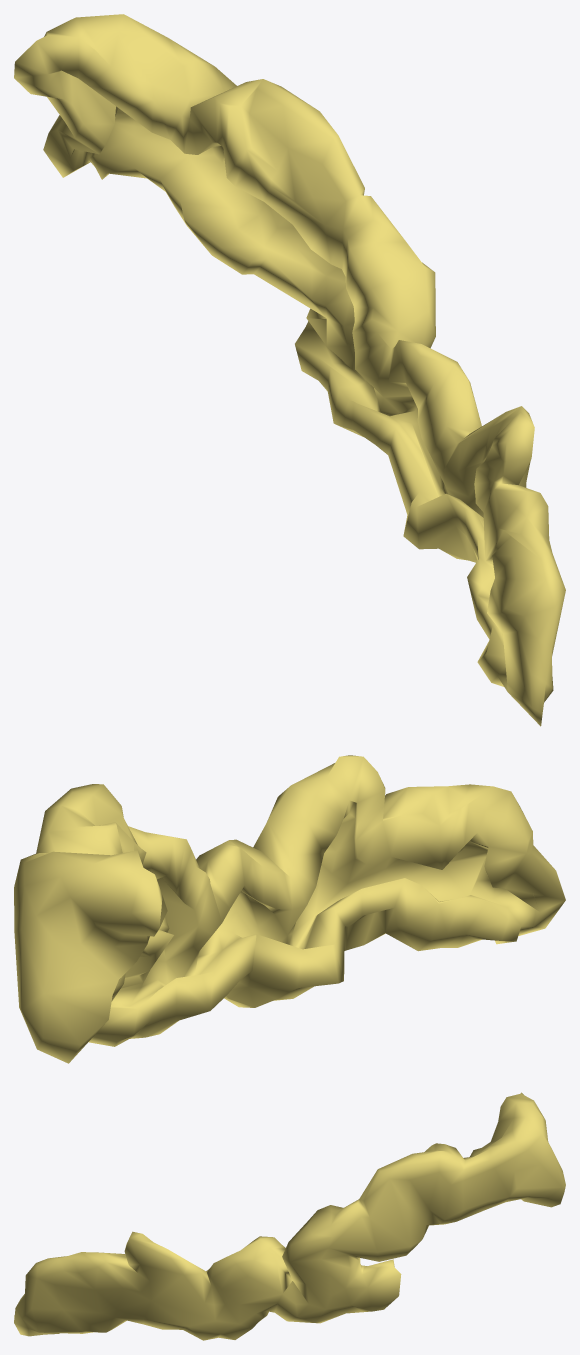
The model's file is middle-temporal-gyrus-l.glb.
3 renders of one model, top to bottom at view 1: azimuth 30°, elevation 25°; view 2: azimuth 150°, elevation 25°; view 3: azimuth 270°, elevation 25°, orthographic. The views are drawn at different scales.
Parts seen in each view (by area): view 1: Middle temporal gyrus.l; view 2: Middle temporal gyrus.l; view 3: Middle temporal gyrus.l.
Part boxes in pixels (x1=…): Middle temporal gyrus.l: x1=14, y1=14, x2=565, y2=726; Middle temporal gyrus.l: x1=14, y1=755, x2=565, y2=1063; Middle temporal gyrus.l: x1=14, y1=1092, x2=565, y2=1340.
Bounding box in the file's own units: 0.0281 × 0.0453 × 0.1004.
